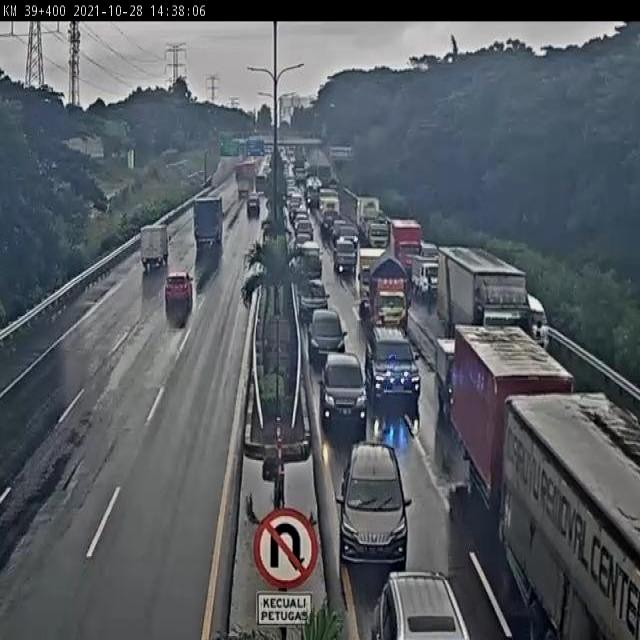Car: (338, 440, 410, 568), (370, 570, 474, 638), (365, 328, 421, 418), (318, 354, 364, 425), (308, 308, 347, 369), (298, 277, 330, 325), (162, 271, 198, 307), (296, 240, 322, 280), (332, 221, 358, 255), (294, 218, 314, 245), (306, 176, 323, 204), (359, 276, 372, 312), (308, 278, 328, 300), (288, 192, 304, 215), (247, 192, 260, 218)
Truck: (497, 394, 638, 639), (446, 324, 574, 514), (437, 248, 529, 342), (364, 253, 412, 336), (187, 191, 232, 250), (434, 338, 458, 422), (387, 218, 422, 274), (407, 247, 439, 306), (356, 196, 392, 246), (358, 247, 386, 304), (139, 223, 168, 271), (235, 159, 257, 199), (220, 136, 239, 157), (246, 137, 265, 157)
